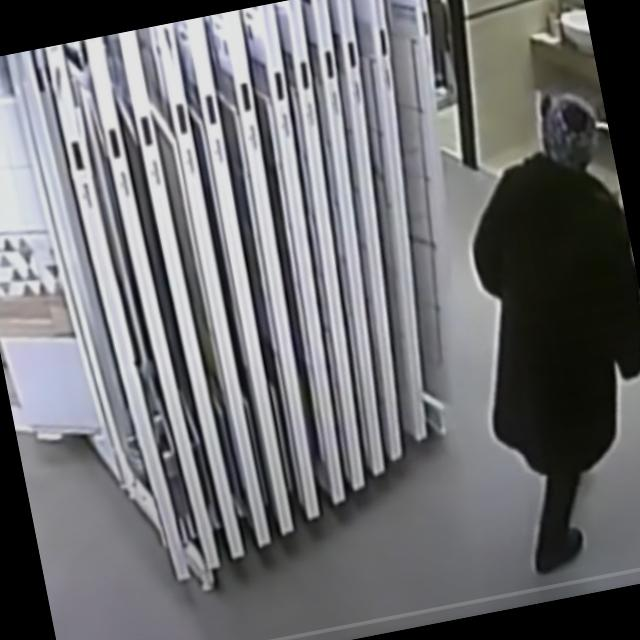person: (427, 86, 640, 579)
